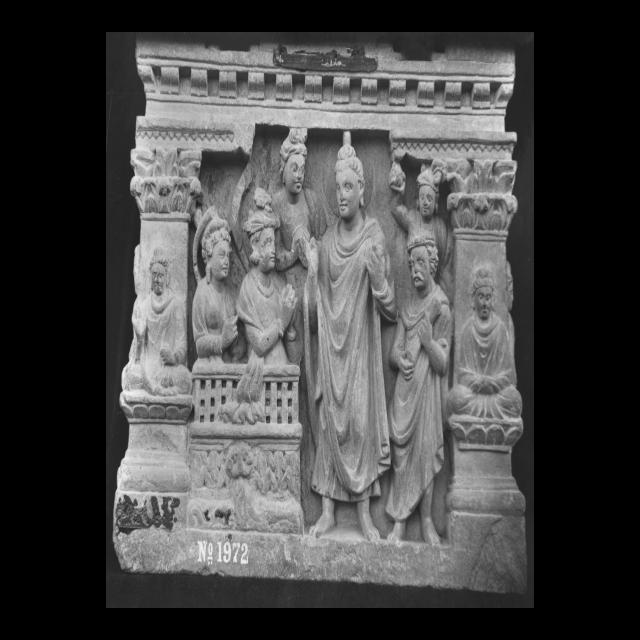buddha-standing: (304, 133, 398, 542)
